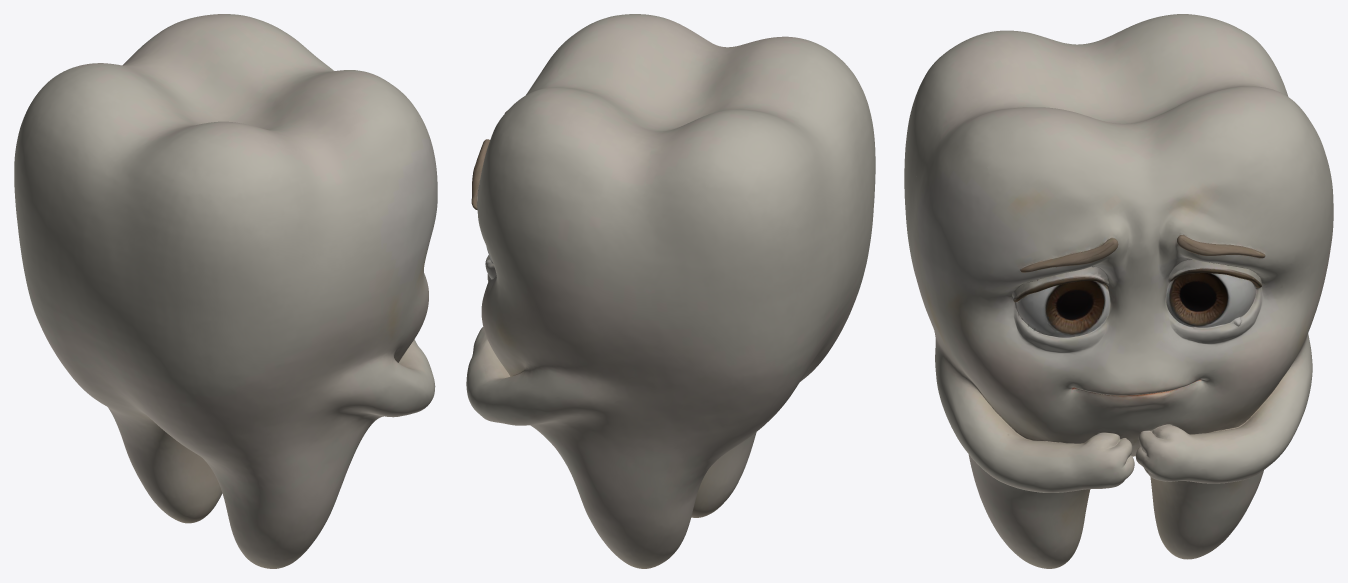
The model's file is glbData_1780601435066_zy76r.glb.
The picture shows the model from 3 angles, left to right: view 1: azimuth 30°, elevation 25°; view 2: azimuth 150°, elevation 25°; view 3: azimuth 270°, elevation 25°; orthographic projection. The views are drawn at different scales.
Parts seen in each view (by area): view 1: tripo_node_d00791e7-35cd-4159-bc4c-c038d0dd3a72; view 2: tripo_node_d00791e7-35cd-4159-bc4c-c038d0dd3a72; view 3: tripo_node_d00791e7-35cd-4159-bc4c-c038d0dd3a72.
Boxes of the visible parts, bbox=[...] form: tripo_node_d00791e7-35cd-4159-bc4c-c038d0dd3a72: bbox=[14, 14, 437, 568]; tripo_node_d00791e7-35cd-4159-bc4c-c038d0dd3a72: bbox=[466, 14, 875, 568]; tripo_node_d00791e7-35cd-4159-bc4c-c038d0dd3a72: bbox=[904, 14, 1333, 568].
Size of the model in its own units: 0.115 by 0.15 by 0.1186.
Materials: 1 (1 with a texture image).
